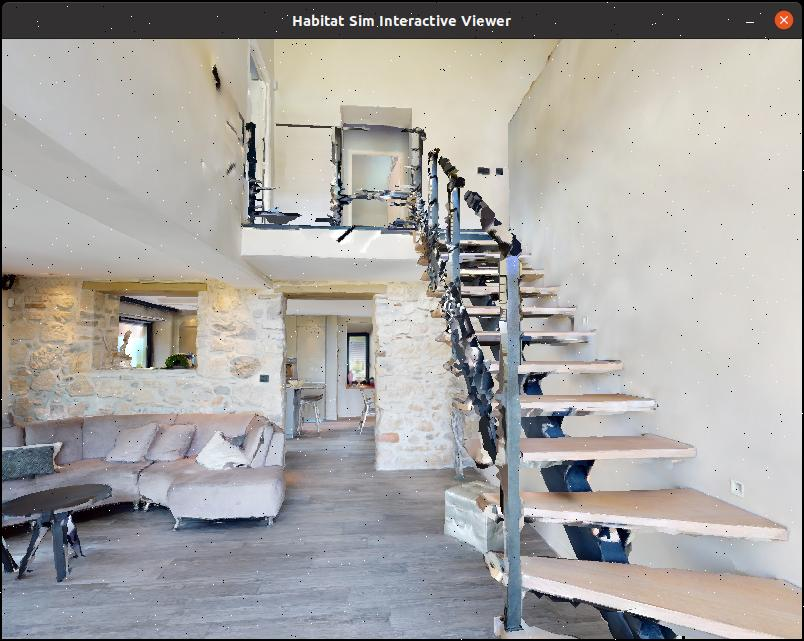door-frame: (271, 285, 389, 501)
sofa: (8, 391, 305, 534)
stairs: (449, 207, 804, 641)
